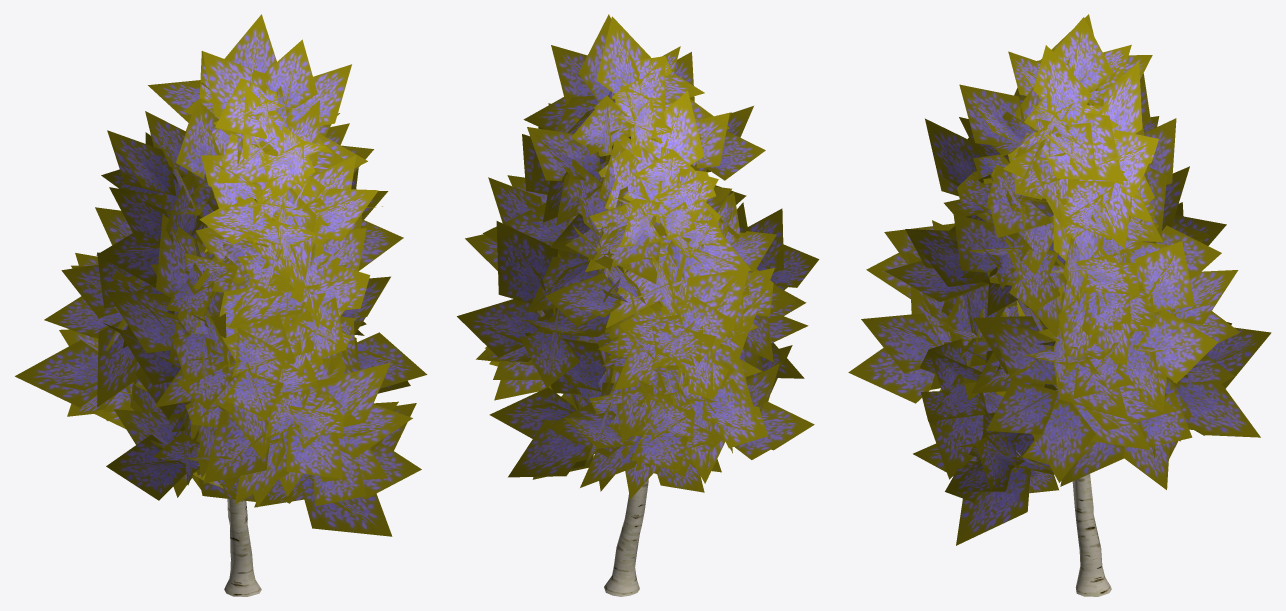
File: Homeworld_Exterior_Common_Plant_Tree_07_Lod0.fbx
The picture shows the model from 3 angles, left to right: view 1: azimuth 30°, elevation 25°; view 2: azimuth 150°, elevation 25°; view 3: azimuth 270°, elevation 25°; orthographic projection. The views are drawn at different scales.
Visible parts, largest first — view 1: Stages_Birchtree01_Leaf_Lod0, Stages_Birchtree01_Bark_Lod0; view 2: Stages_Birchtree01_Leaf_Lod0, Stages_Birchtree01_Bark_Lod0; view 3: Stages_Birchtree01_Leaf_Lod0, Stages_Birchtree01_Bark_Lod0.
Part boxes in pixels (left/top/right/bottom): Stages_Birchtree01_Leaf_Lod0: left=15, top=14, right=427, bottom=536; Stages_Birchtree01_Bark_Lod0: left=197, top=225, right=261, bottom=596; Stages_Birchtree01_Leaf_Lod0: left=457, top=14, right=819, bottom=498; Stages_Birchtree01_Bark_Lod0: left=604, top=479, right=648, bottom=596; Stages_Birchtree01_Leaf_Lod0: left=848, top=14, right=1271, bottom=545; Stages_Birchtree01_Bark_Lod0: left=1016, top=451, right=1111, bottom=596.
Bounding box in the file's own units: 11.46 × 18.54 × 12.28.
